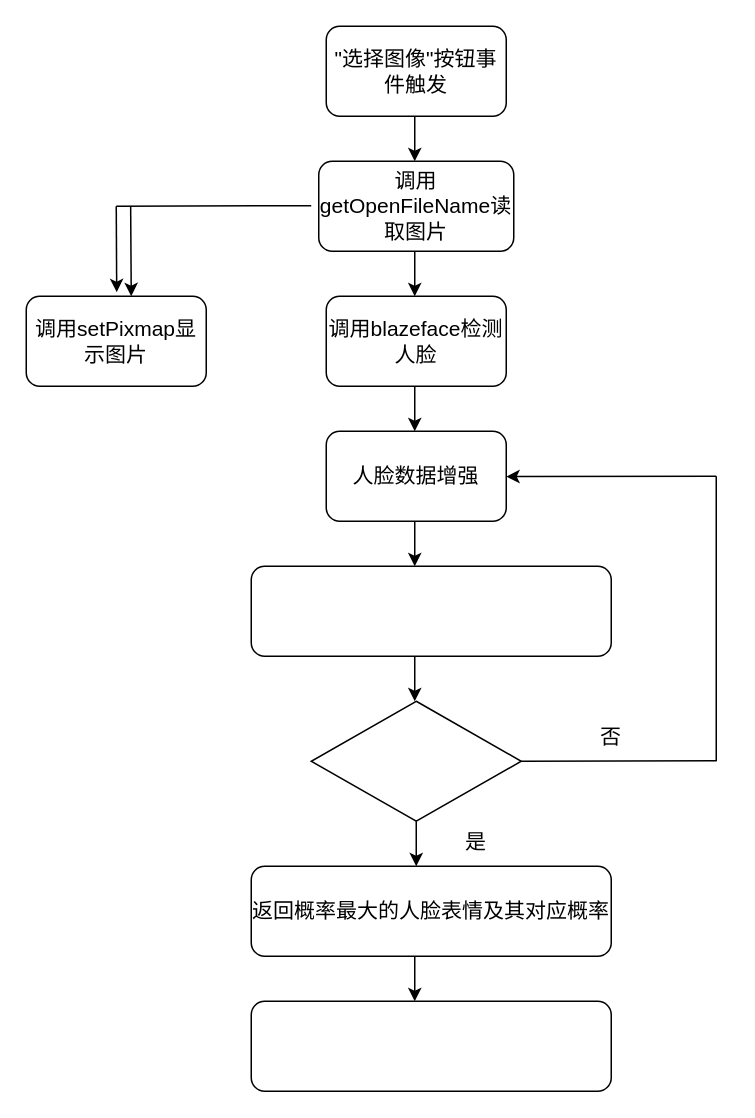
This 755x1118 diagram has some shape labels left out. The box of each missing label's shape, as (x1, y1, x2, y2) in pixels:
人脸是否遍历完: (310, 700, 521, 821)
读取模型权重文件（.h5）并预测: (250, 565, 611, 656)
调用setPixmap显示对应的表情 调用bar绘制概率直方图: (250, 1000, 611, 1091)
